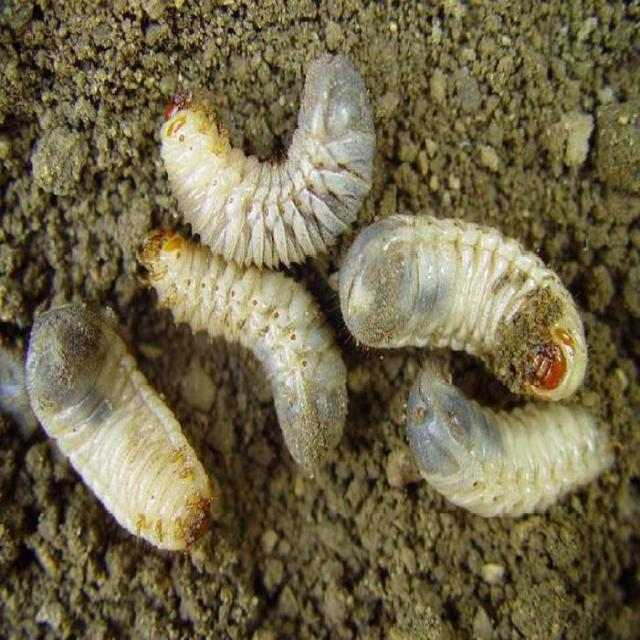grub: (132, 234, 358, 473), (339, 206, 604, 398), (162, 53, 391, 266), (22, 305, 222, 548), (393, 363, 622, 519)
